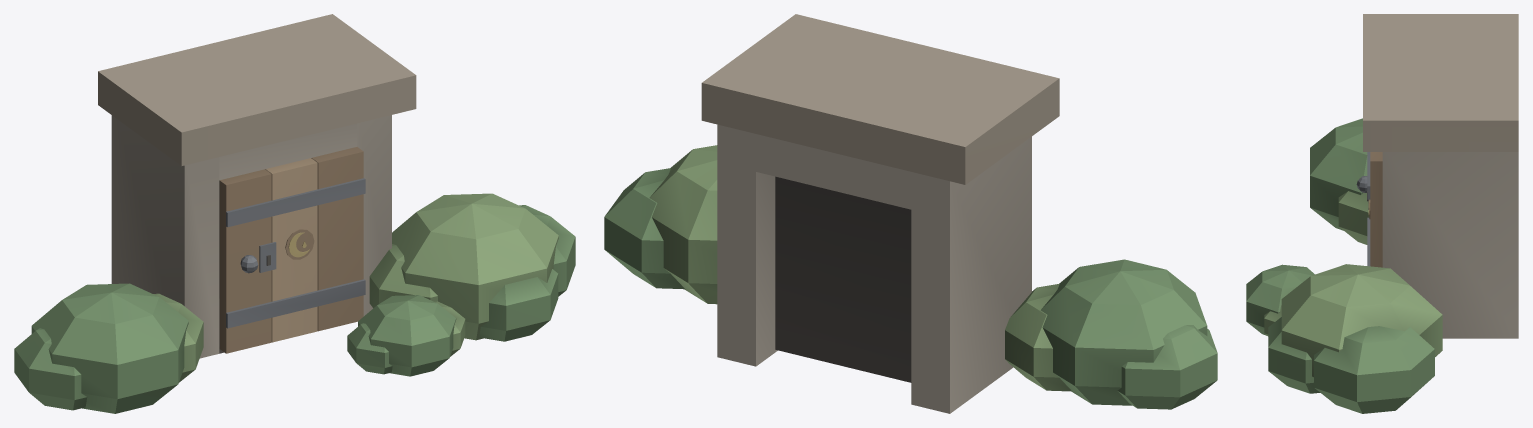
Rendered from story_lighthouse_hatch.glb.
3 views of the same model, side by side, from view 1: azimuth 30°, elevation 25°; view 2: azimuth 150°, elevation 25°; view 3: azimuth 270°, elevation 25° (orthographic). The views are drawn at different scales.
Visible parts, largest first — view 1: story.lighthouse_hatch, door; view 2: story.lighthouse_hatch; view 3: story.lighthouse_hatch, door.
Boxes of the visible parts, <box> form: story.lighthouse_hatch: <box>14,14,575,413</box>; door: <box>219,147,365,353</box>; story.lighthouse_hatch: <box>604,14,1217,413</box>; story.lighthouse_hatch: <box>1246,14,1518,413</box>; door: <box>1356,152,1382,267</box>.
Bounding box in the file's own units: 2.34 × 1.1 × 1.1.
